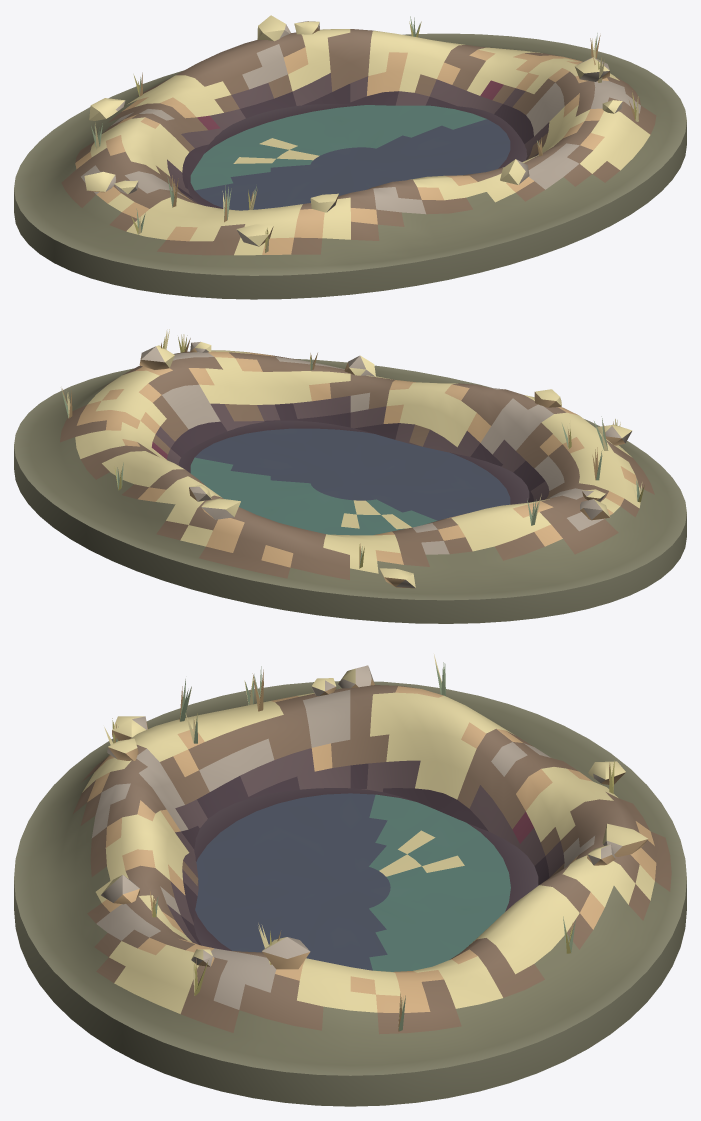
File: shell_craters_v1.glb
3 views of the same model, one above another, from view 1: azimuth 30°, elevation 25°; view 2: azimuth 150°, elevation 25°; view 3: azimuth 270°, elevation 25° (orthographic). The views are drawn at different scales.
Parts seen in each view (by area): view 1: Body; view 2: Body; view 3: Body.
Boxes of the visible parts, x1=… form: Body: x1=14, y1=15, x2=686, y2=299; Body: x1=14, y1=329, x2=686, y2=623; Body: x1=14, y1=654, x2=686, y2=1106.
Bounding box in the file's own units: 1.1 × 0.2038 × 0.792.
